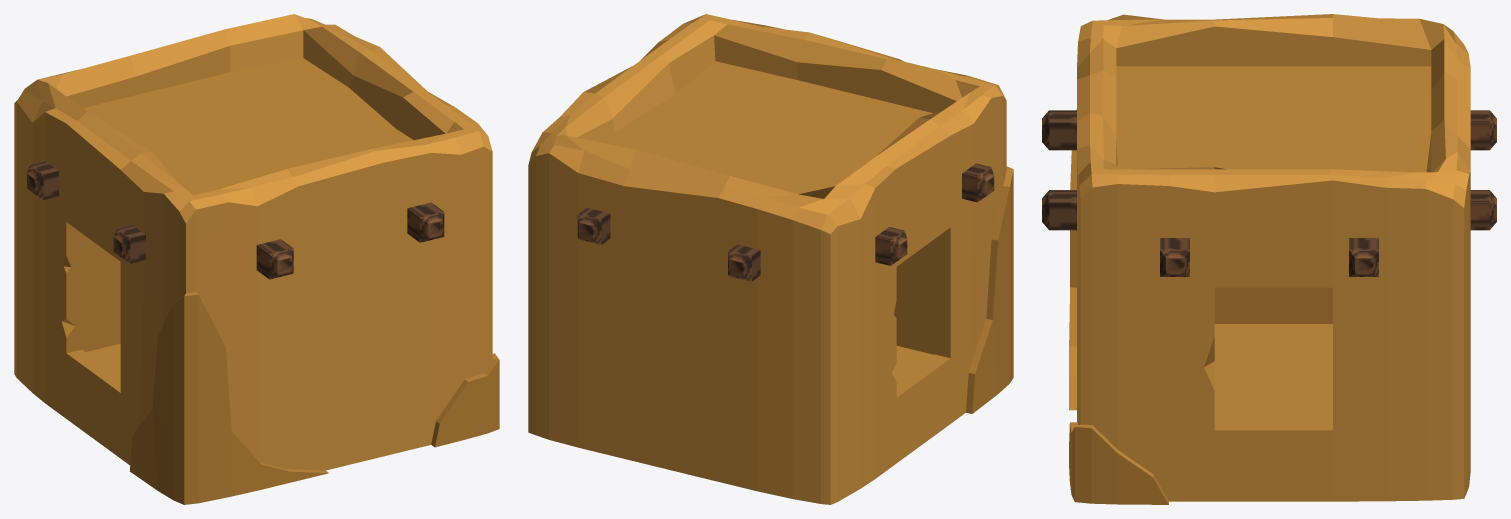
Rendered from Building_S4.fbx.
The picture shows the model from 3 angles, left to right: view 1: azimuth 30°, elevation 25°; view 2: azimuth 150°, elevation 25°; view 3: azimuth 270°, elevation 25°; orthographic projection. The views are drawn at different scales.
Visible parts, largest first — view 1: Plane.010; view 2: Plane.010; view 3: Plane.010.
Boxes of the visible parts, x1,y1,x2,y2 form: Plane.010: (14,14,499,504); Plane.010: (528,14,1013,504); Plane.010: (1042,14,1496,504).
Bounding box in the file's own units: 115 × 92.02 × 115.
